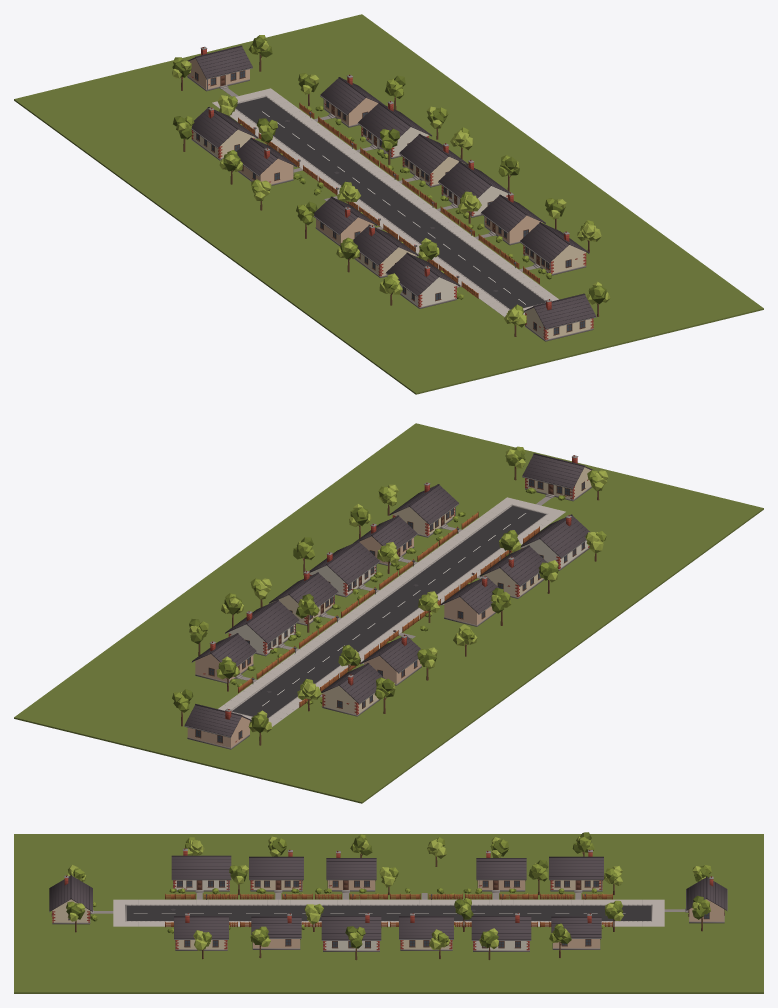
The model's file is Street.fbx.
3 views of the same model, one above another, from view 1: azimuth 30°, elevation 25°; view 2: azimuth 150°, elevation 25°; view 3: azimuth 270°, elevation 25° (orthographic). The views are drawn at different scales.
Visible parts, largest first — view 1: Street_Ground, House_A_Start, House_C_L0, House_A_R0, House_B_End, House_A_L5, House_A_R3, House_C_R2, House_C_R4, House_B_R1, House_B_L4, House_B_R5 (+2 smaller); view 2: Street_Ground, House_A_Start, House_C_R4, House_C_R2, House_B_End, House_A_R0, House_A_L5, House_C_L0, House_A_L1, House_B_L2, House_B_R5, House_B_L4 (+2 smaller); view 3: Street_Ground, House_C_L0, House_A_L5, House_A_L1, House_C_R4, House_C_R2, House_B_L2, House_B_L4, House_A_R0, House_A_R3, House_A_Start, House_B_R5 (+22 smaller).
Part boxes in pixels (x1,y1,x2,y2): Street_Ground: [14, 14, 763, 394]; House_A_Start: [524, 293, 596, 341]; House_C_L0: [385, 252, 460, 308]; House_A_R0: [520, 222, 589, 275]; House_B_End: [187, 45, 252, 91]; House_A_L5: [191, 107, 258, 160]; House_A_R3: [399, 134, 468, 187]; House_C_R2: [438, 159, 509, 217]; House_C_R4: [357, 101, 432, 158]; House_B_R1: [480, 192, 545, 245]; House_B_L4: [236, 137, 296, 185]; House_B_R5: [320, 74, 384, 127]; Street_Ground: [14, 423, 763, 803]; House_A_Start: [522, 453, 593, 501]; House_C_R4: [225, 599, 299, 656]; House_C_R2: [309, 541, 379, 597]; House_B_End: [184, 704, 251, 749]; House_A_R0: [389, 482, 458, 537]; House_A_L5: [321, 663, 384, 716]; House_C_L0: [520, 514, 590, 570]; House_A_L1: [479, 545, 547, 598]; House_B_L2: [440, 576, 498, 626]; House_B_R5: [191, 633, 256, 683]; House_B_L4: [360, 634, 421, 685]; Street_Ground: [14, 834, 763, 993]; House_C_L0: [171, 848, 231, 892]; House_A_L5: [549, 849, 603, 892]; House_A_L1: [249, 849, 303, 892]; House_C_R4: [471, 913, 531, 951]; House_C_R2: [321, 913, 381, 951]; House_B_L2: [326, 850, 376, 892]; House_B_L4: [476, 850, 526, 892]; House_A_R0: [174, 913, 228, 950]; House_A_R3: [399, 913, 453, 950]; House_A_Start: [49, 875, 93, 924]; House_B_R5: [551, 913, 601, 949].
Bounding box in the file's own units: 80 × 8.23 × 160.
